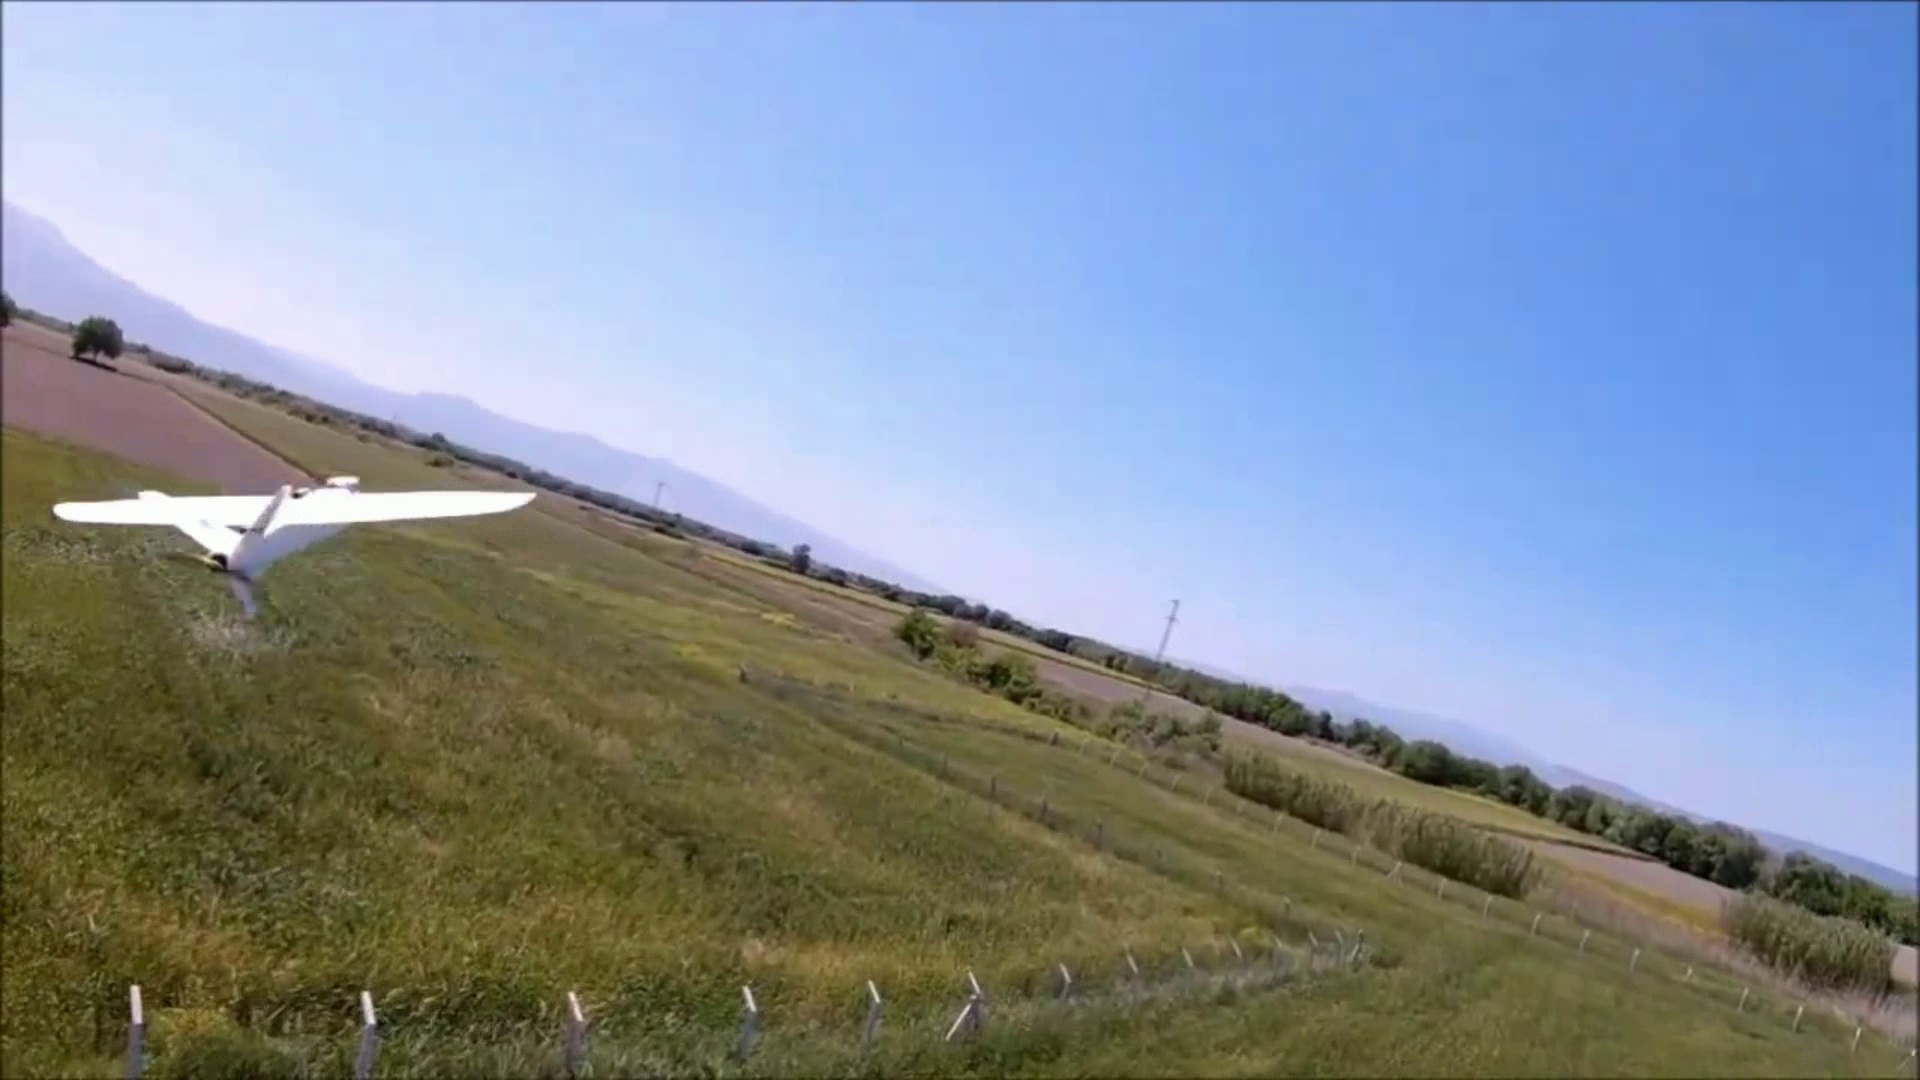airplane: (47, 475, 535, 622)
